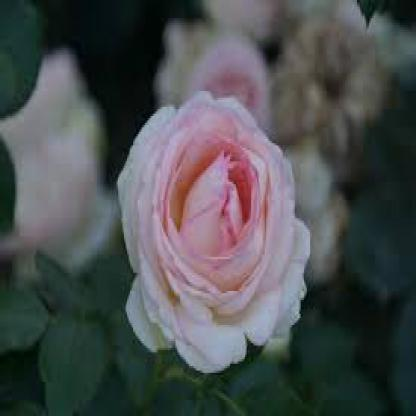Rose-Mawar: (109, 90, 316, 367)
